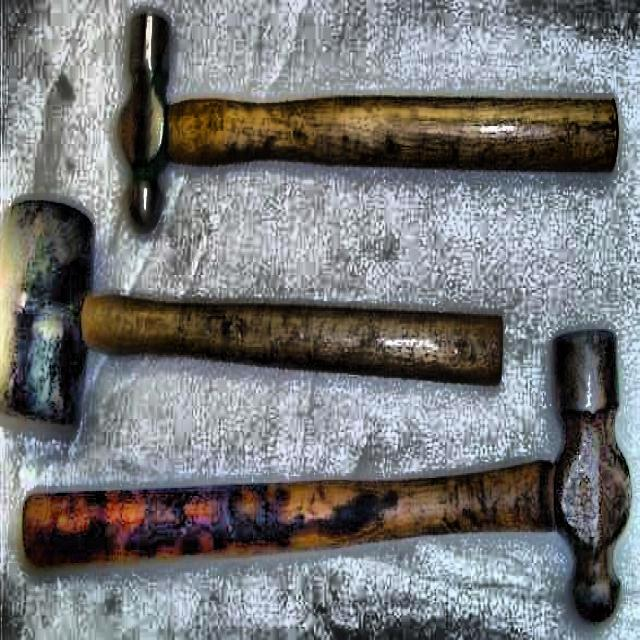hammer: (19, 326, 634, 625), (119, 9, 619, 229)
